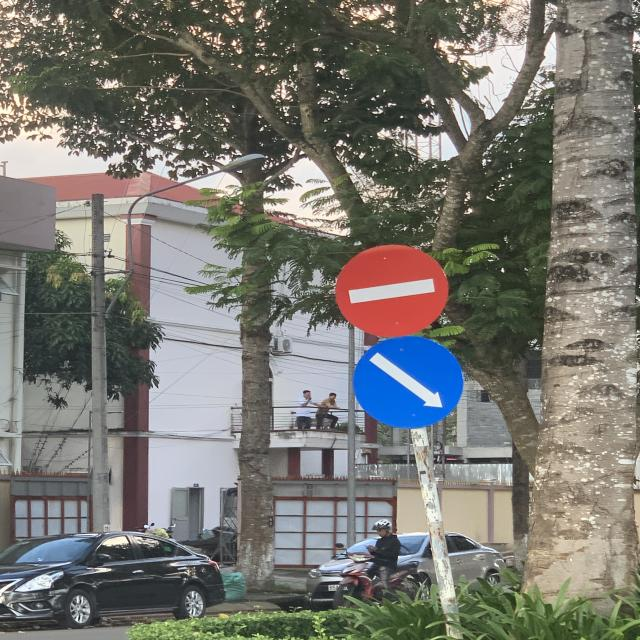Cam_Di_Nguoc_Chieu: (334, 245, 450, 336)
Chi_Huong_Di_Phai: (351, 337, 466, 431)
